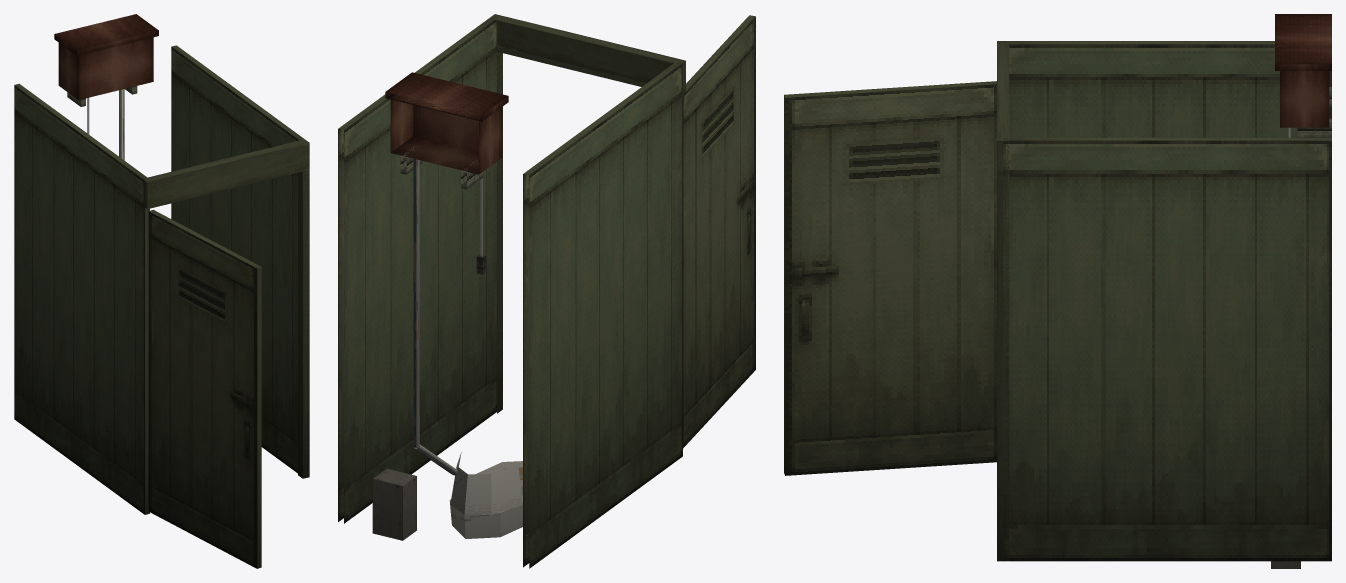
File: prop_toilet_stall-3-end.glb
The picture shows the model from 3 angles, left to right: view 1: azimuth 30°, elevation 25°; view 2: azimuth 150°, elevation 25°; view 3: azimuth 270°, elevation 25°; orthographic projection. The views are drawn at different scales.
Parts seen in each view (by area): view 1: prop_toilet_stall-3-end; view 2: prop_toilet_stall-3-end; view 3: prop_toilet_stall-3-end.
Boxes of the visible parts, left/top/right/bottom form: prop_toilet_stall-3-end: left=14, top=14, right=309, bottom=568; prop_toilet_stall-3-end: left=338, top=14, right=755, bottom=568; prop_toilet_stall-3-end: left=784, top=14, right=1331, bottom=568.
Size of the model in its own units: 0.95 by 2.18 by 2.21.
Materials: 13 (13 with a texture image).
